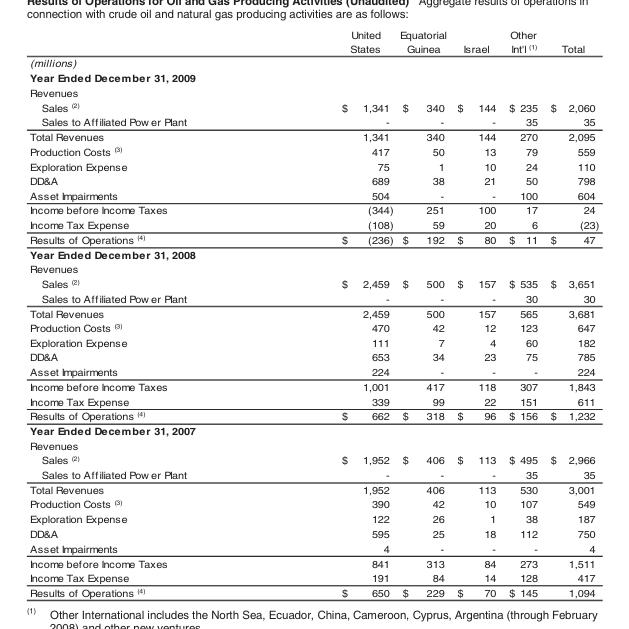table: (28, 28, 598, 598)
table column: (28, 28, 263, 598), (263, 28, 395, 598), (395, 28, 451, 598), (543, 28, 598, 598), (451, 28, 501, 598), (501, 28, 543, 598)
table column header: (28, 28, 598, 55)
table projected row header: (28, 55, 598, 70), (28, 70, 598, 85), (28, 246, 598, 261), (28, 261, 598, 276), (28, 422, 598, 437), (28, 437, 598, 452), (28, 85, 598, 99)
table row: (28, 28, 598, 55), (28, 55, 598, 70), (28, 70, 598, 85), (28, 99, 598, 114), (28, 114, 598, 129), (28, 143, 598, 158), (28, 158, 598, 173), (28, 187, 598, 202), (28, 202, 598, 217), (28, 231, 598, 246), (28, 246, 598, 261), (28, 261, 598, 276), (28, 290, 598, 305), (28, 305, 598, 320), (28, 334, 598, 349), (28, 349, 598, 364), (28, 364, 598, 379), (28, 393, 598, 408), (28, 422, 598, 437), (28, 437, 598, 452), (28, 452, 598, 467), (28, 481, 598, 496), (28, 496, 598, 511), (28, 525, 598, 540), (28, 540, 598, 555), (28, 555, 598, 570), (28, 85, 598, 99), (28, 129, 598, 143), (28, 173, 598, 187), (28, 217, 598, 231), (28, 276, 598, 290), (28, 320, 598, 334), (28, 379, 598, 393), (28, 408, 598, 422), (28, 467, 598, 481), (28, 511, 598, 525), (28, 570, 598, 584), (28, 584, 598, 598)
